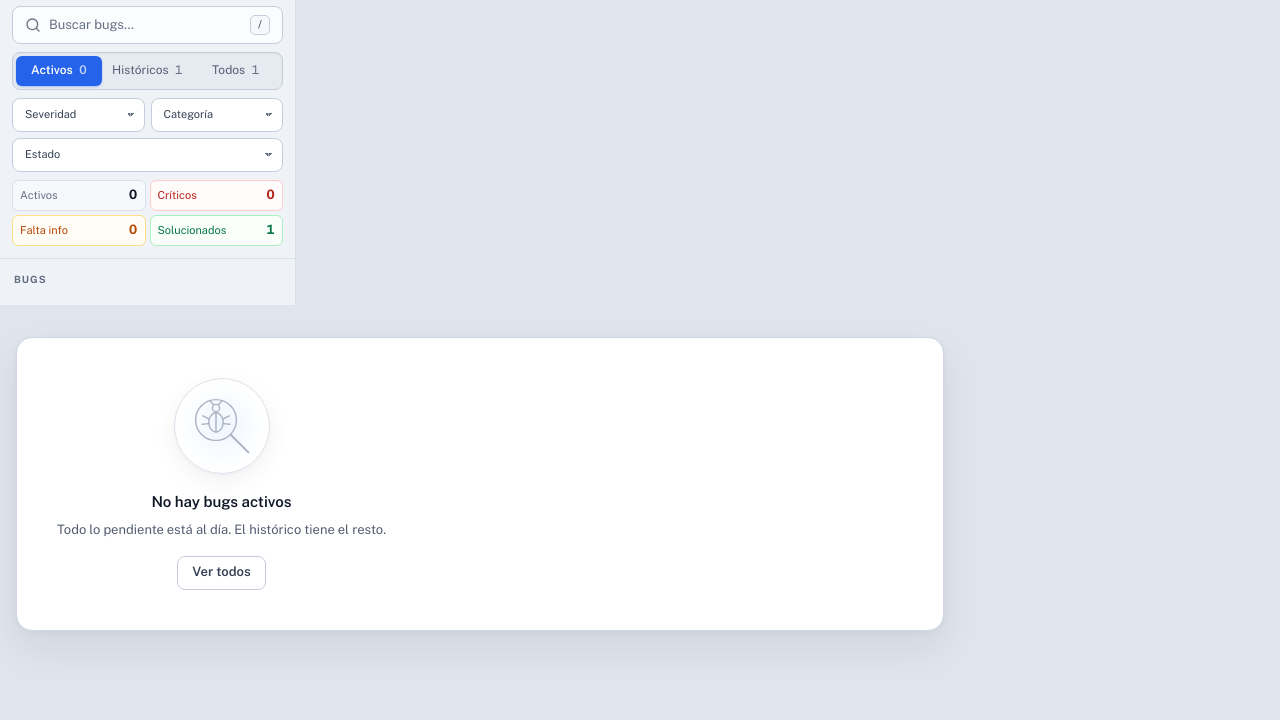
Scenario: BugsScreen — ciclo de vida (activos / históricos) › si no hay activos, muestra el vacío con opción de ver todos
The width and height of the screenshot is (1280, 720).
Expected: the text "No hay bugs activos" is shown, [152, 493, 292, 510]
Click the button "Ver todos": (222, 573) [177, 556, 266, 590]
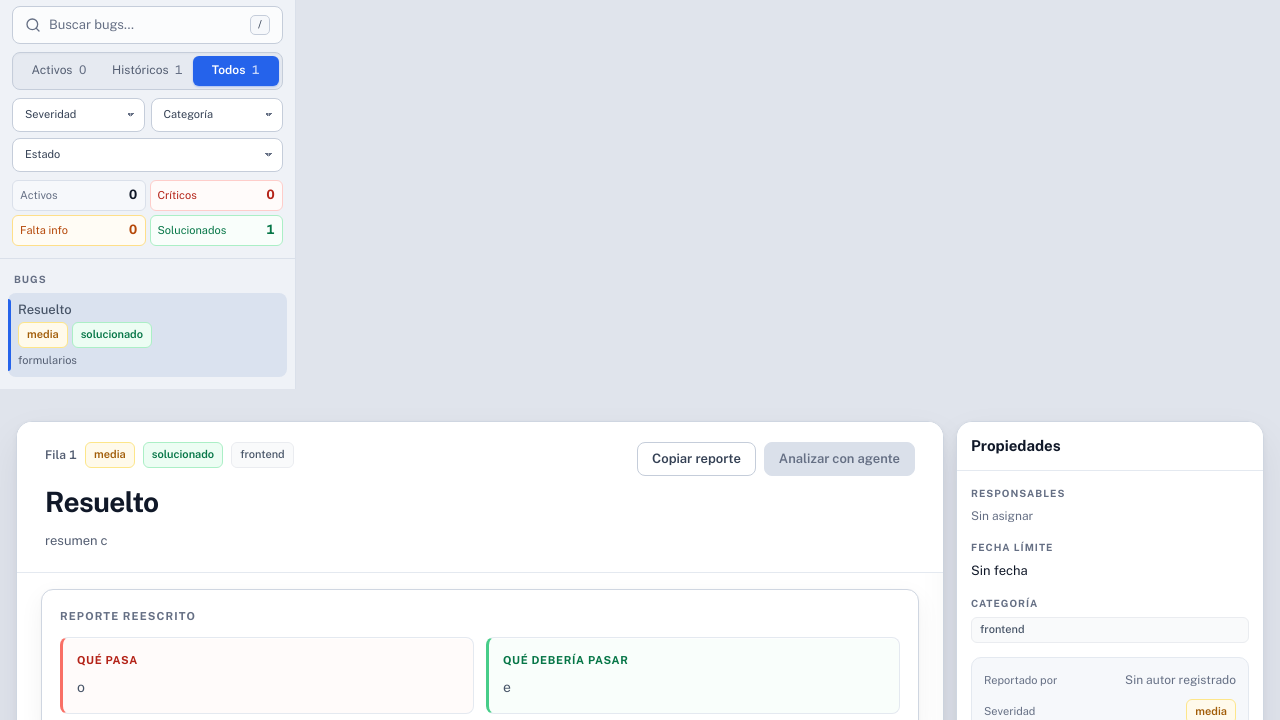
Expected: the text "Resuelto" is shown, [18, 302, 72, 317]
